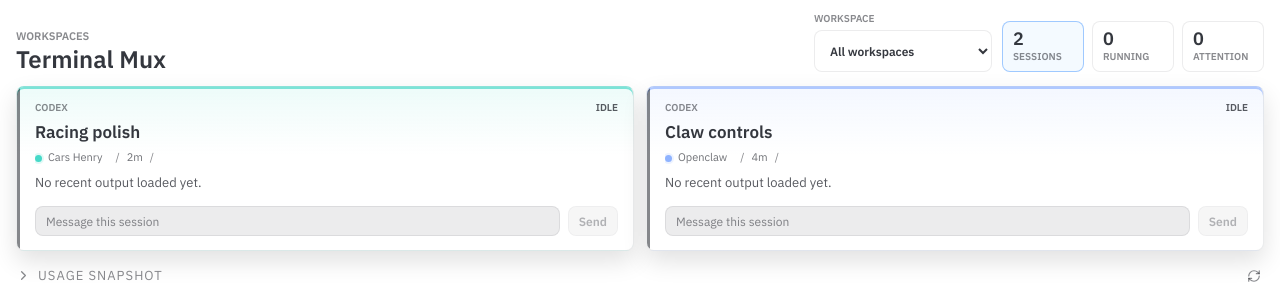
Test: Home › filters session tiles by workspace
This screenshot has width=1280, height=299.
Expected: the text "Racing polish" is shown, x1=35 y1=121 x2=140 y2=143
Expected: the text "Claw controls" is shown, x1=665 y1=121 x2=772 y2=143
Select "Cars Henry (1)" in the dropdown named "Filter sessions by workspace" at {"x": 903, "y": 51}, box x1=814 y1=30 x2=992 y2=72
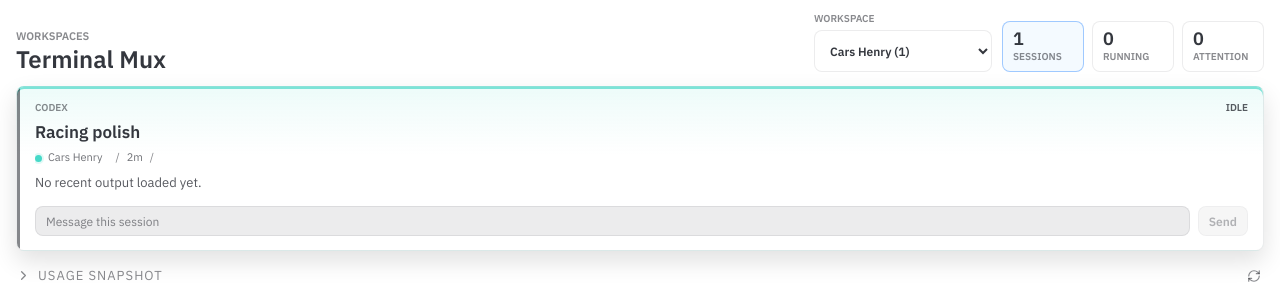
Expected: the text "Racing polish" is shown, x1=35 y1=121 x2=140 y2=143
Now the button "Claw controls" is gone
